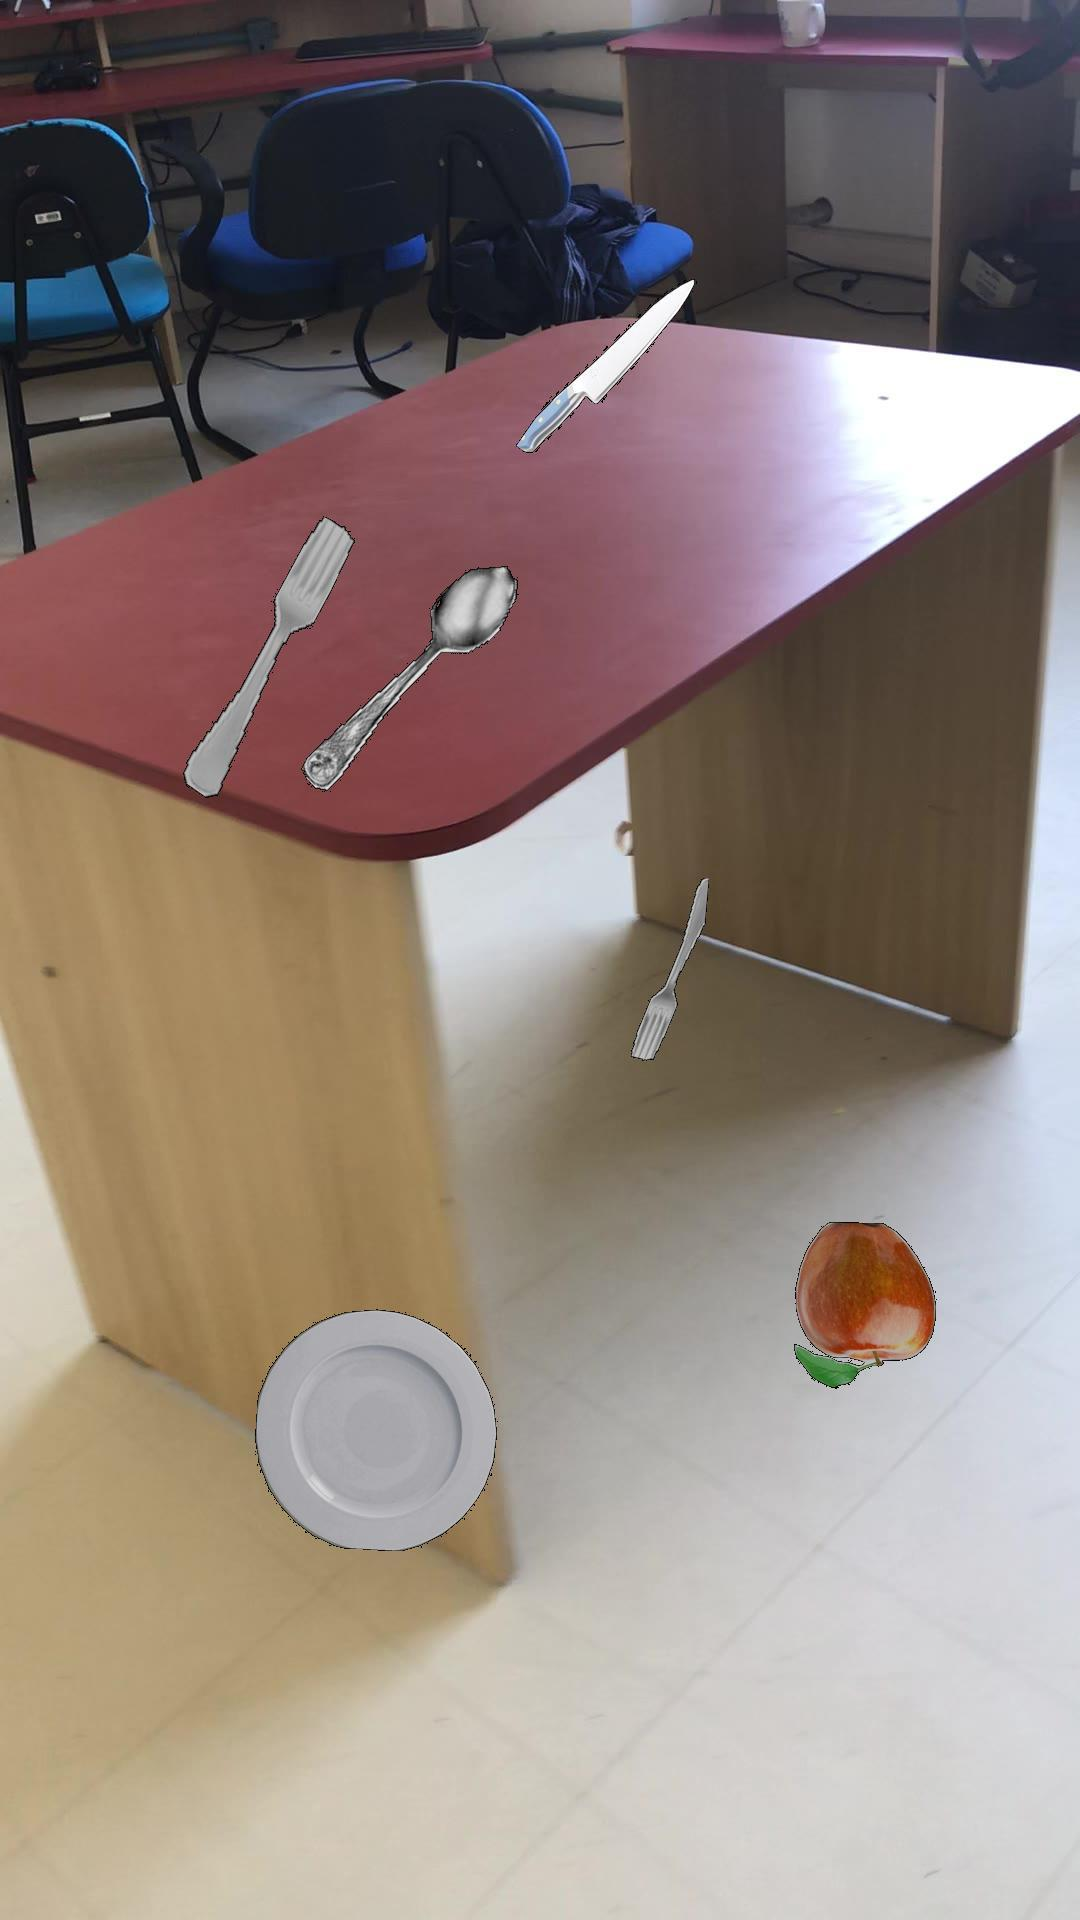apple: (793, 1221, 935, 1387)
fork: (182, 514, 353, 796), (629, 877, 708, 1059)
knife: (514, 277, 694, 451)
plate: (253, 1308, 496, 1549)
spoon: (299, 564, 517, 790)
